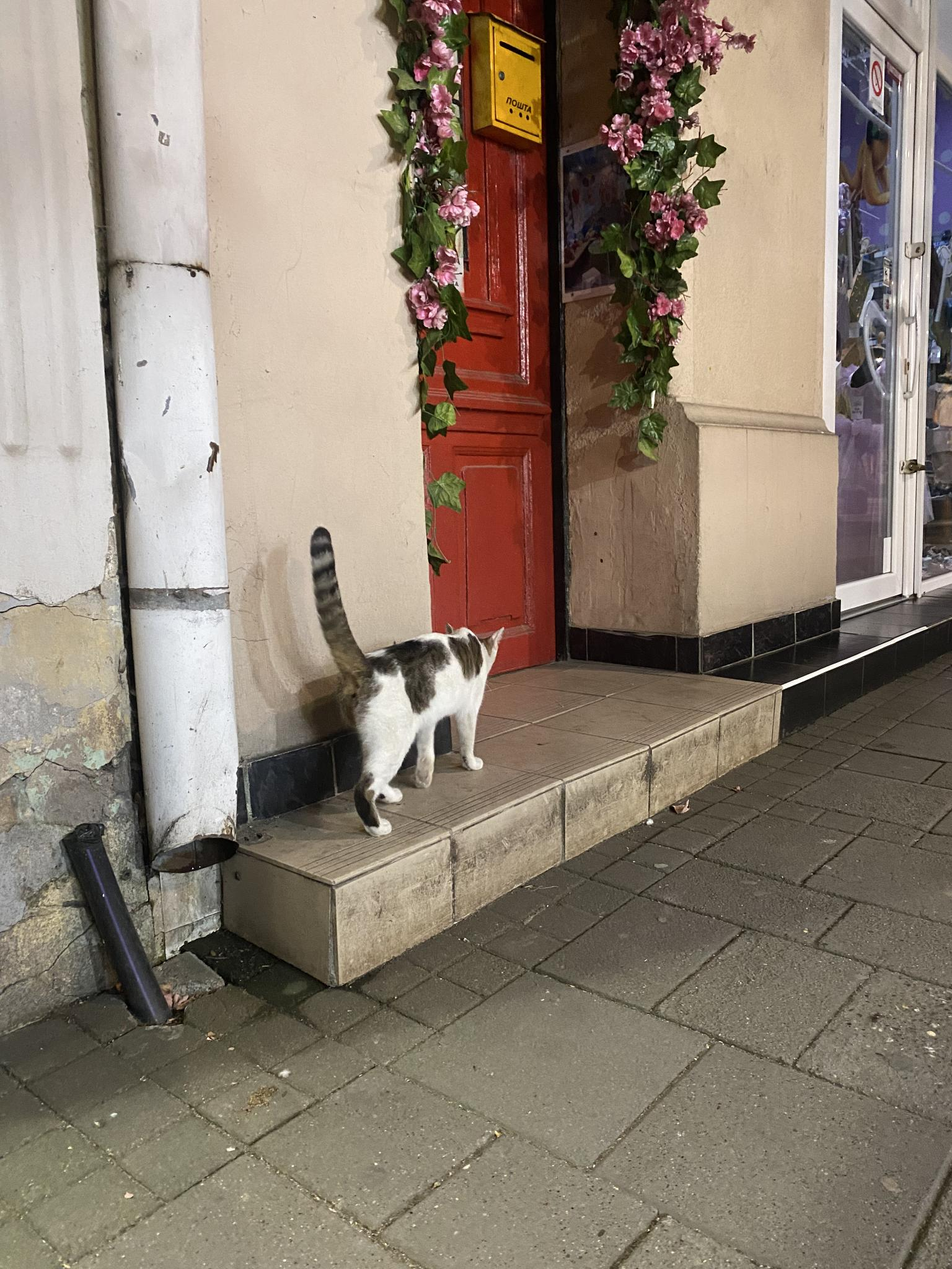macka: (311, 526, 506, 837)
